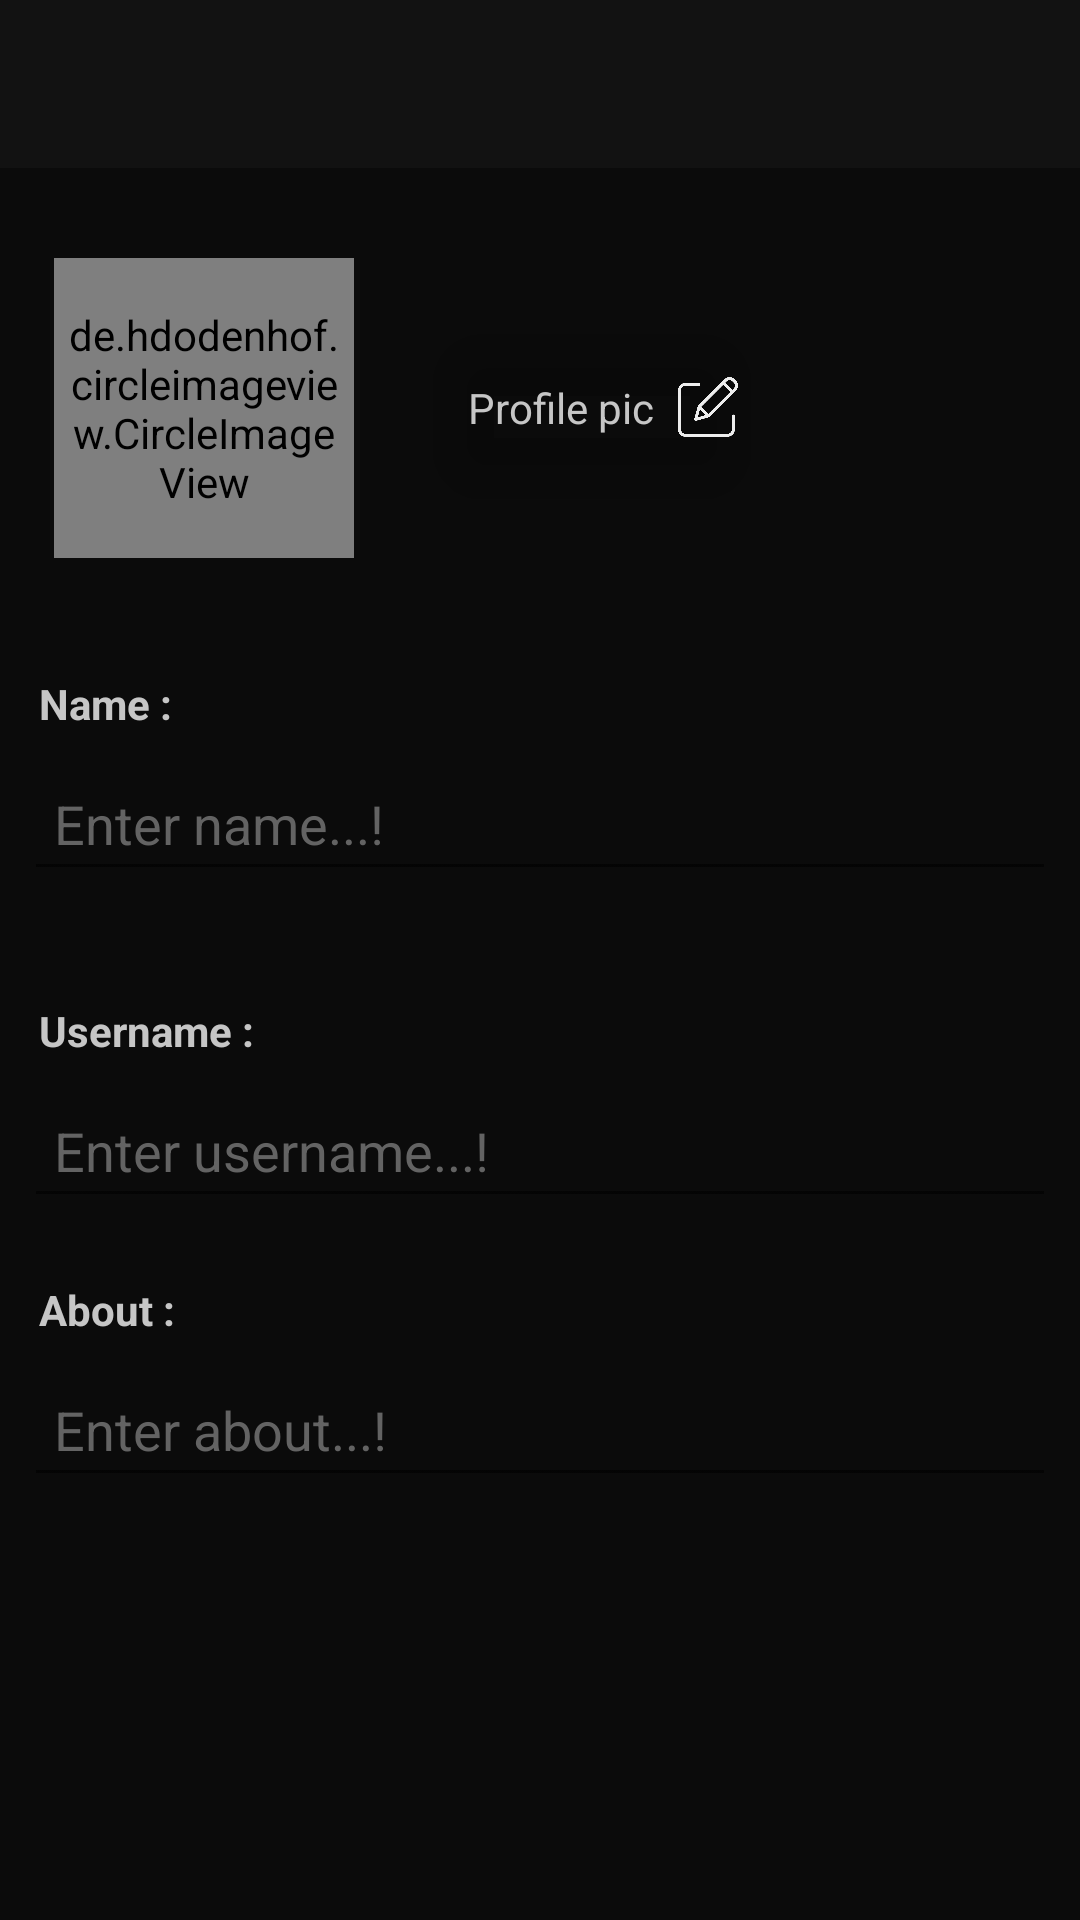

Point at icon controls on the screen. Image size 1080w x 1920h, points as [x,y].
edit: [708,407]
